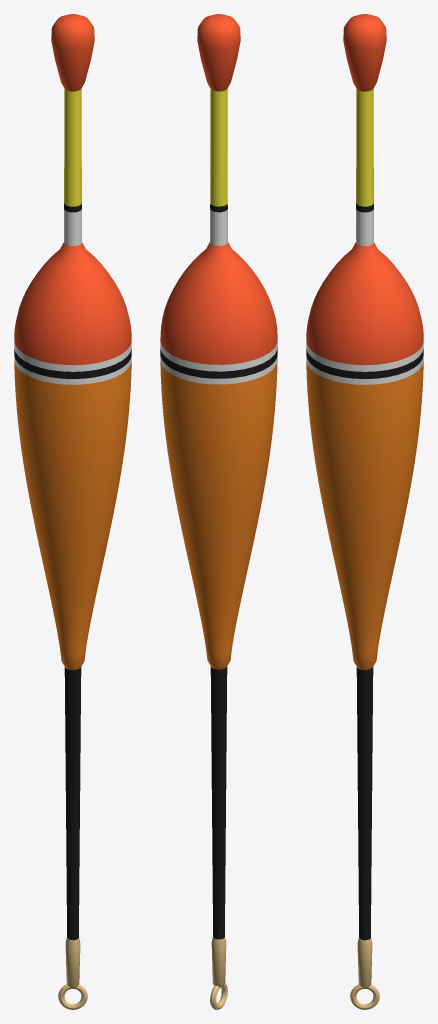
File: float.fbx
The picture shows the model from 3 angles, left to right: view 1: azimuth 90°, elevation 25°; view 2: azimuth 150°, elevation 25°; view 3: azimuth 270°, elevation 25°; orthographic projection.
Parts seen in each view (by area): view 1: float; view 2: float; view 3: float.
Boxes of the visible parts, x1,y1,x2,y2 form: float: (14,14,131,1009); float: (160,14,277,1009); float: (306,14,423,1009).
Size of the model in its own units: 2.22 by 20.66 by 2.22.
